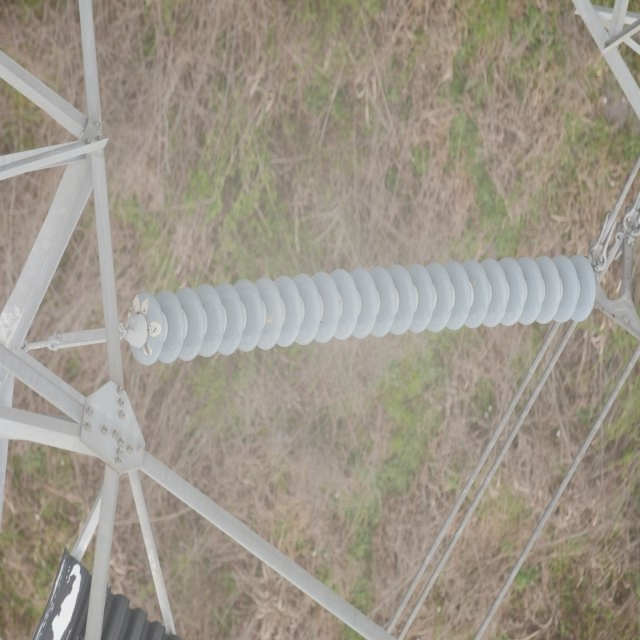insulator: (129, 249, 596, 367)
